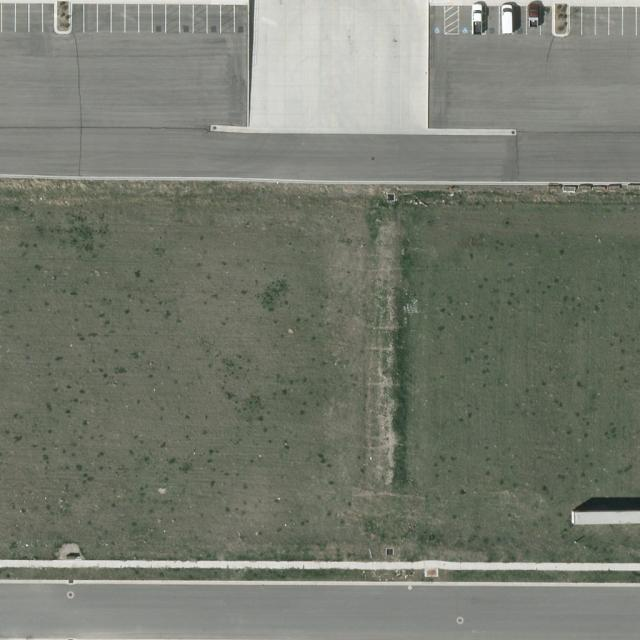vehicle: (502, 3, 514, 37), (472, 4, 484, 34), (528, 4, 541, 28)
